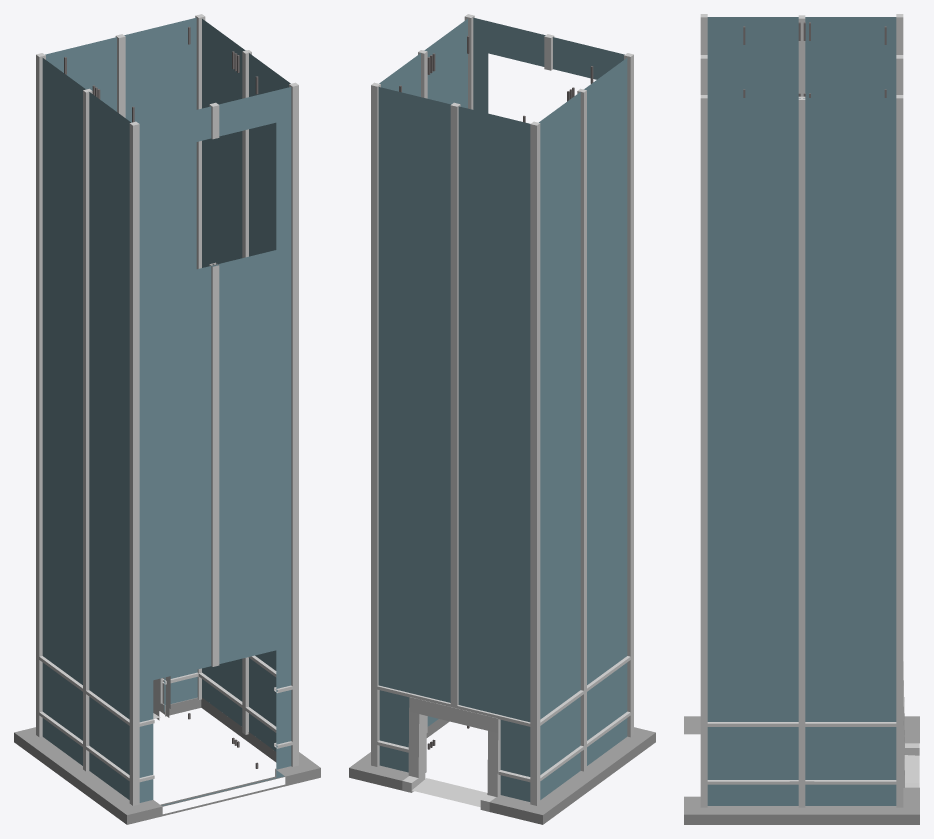
Rendered from lift-shaft-0-1.glb.
3 renders of one model, left to right at view 1: azimuth 30°, elevation 25°; view 2: azimuth 150°, elevation 25°; view 3: azimuth 270°, elevation 25°, orthographic. The views are drawn at different scales.
Parts seen in each view (by area): view 1: BackUpWithMirror.001_Cube.004 / Glass, BackUpWithMirror.001_Cube.004 / Metal, BackUpWithMirror.001_Cube.004 / Beton, BackUpWithMirror.001_Cube.004 / BlackMetal; view 2: BackUpWithMirror.001_Cube.004 / Glass, BackUpWithMirror.001_Cube.004 / Metal, BackUpWithMirror.001_Cube.004 / Beton; view 3: BackUpWithMirror.001_Cube.004 / Glass, BackUpWithMirror.001_Cube.004 / Metal, BackUpWithMirror.001_Cube.004 / Beton.
Boxes of the visible parts, bbox=[...] form: BackUpWithMirror.001_Cube.004 / Glass: bbox=[42, 17, 291, 805]; BackUpWithMirror.001_Cube.004 / Metal: bbox=[36, 14, 298, 805]; BackUpWithMirror.001_Cube.004 / Beton: bbox=[14, 697, 320, 824]; BackUpWithMirror.001_Cube.004 / BlackMetal: bbox=[64, 26, 258, 768]; BackUpWithMirror.001_Cube.004 / Glass: bbox=[378, 17, 627, 801]; BackUpWithMirror.001_Cube.004 / Metal: bbox=[371, 14, 633, 811]; BackUpWithMirror.001_Cube.004 / Beton: bbox=[349, 719, 655, 824]; BackUpWithMirror.001_Cube.004 / Glass: bbox=[707, 17, 896, 805]; BackUpWithMirror.001_Cube.004 / Metal: bbox=[700, 14, 919, 807]; BackUpWithMirror.001_Cube.004 / Beton: bbox=[684, 716, 919, 824].
Size of the model in its own units: 8.52 by 29.14 by 8.61.
